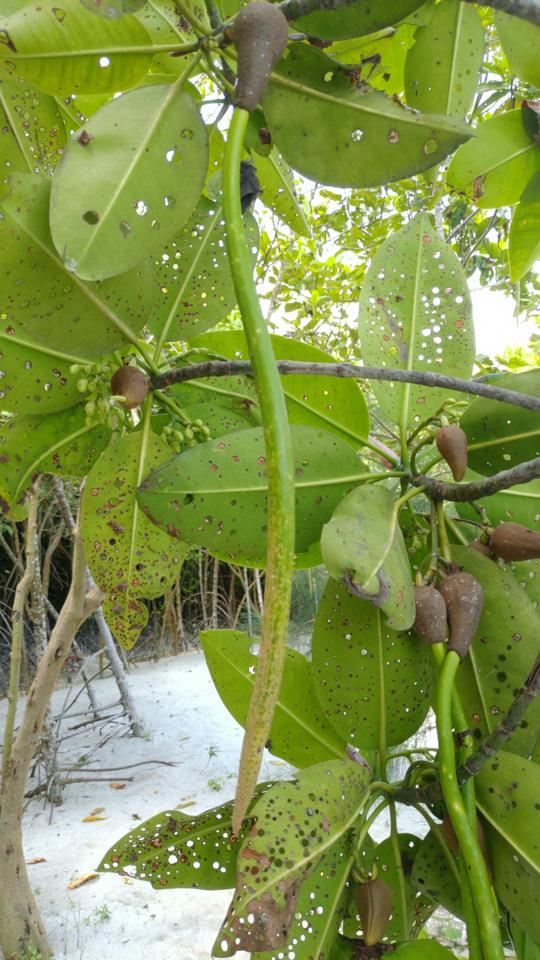mentah: (182, 1, 305, 867)
